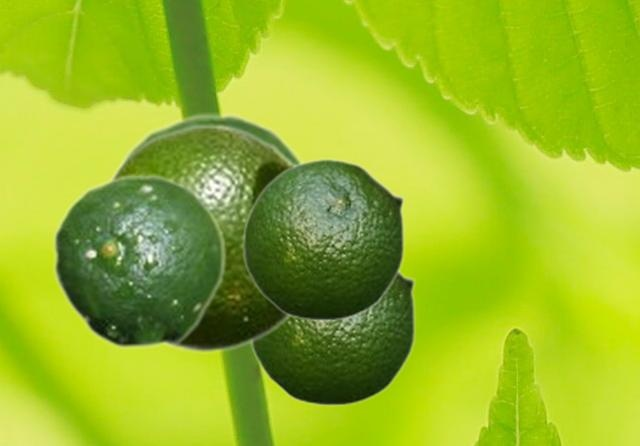calamansi: (105, 123, 300, 352), (52, 173, 226, 349), (242, 158, 405, 321), (249, 269, 416, 406), (106, 112, 306, 178)
